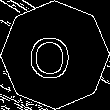O_N: (33, 29, 77, 81)
